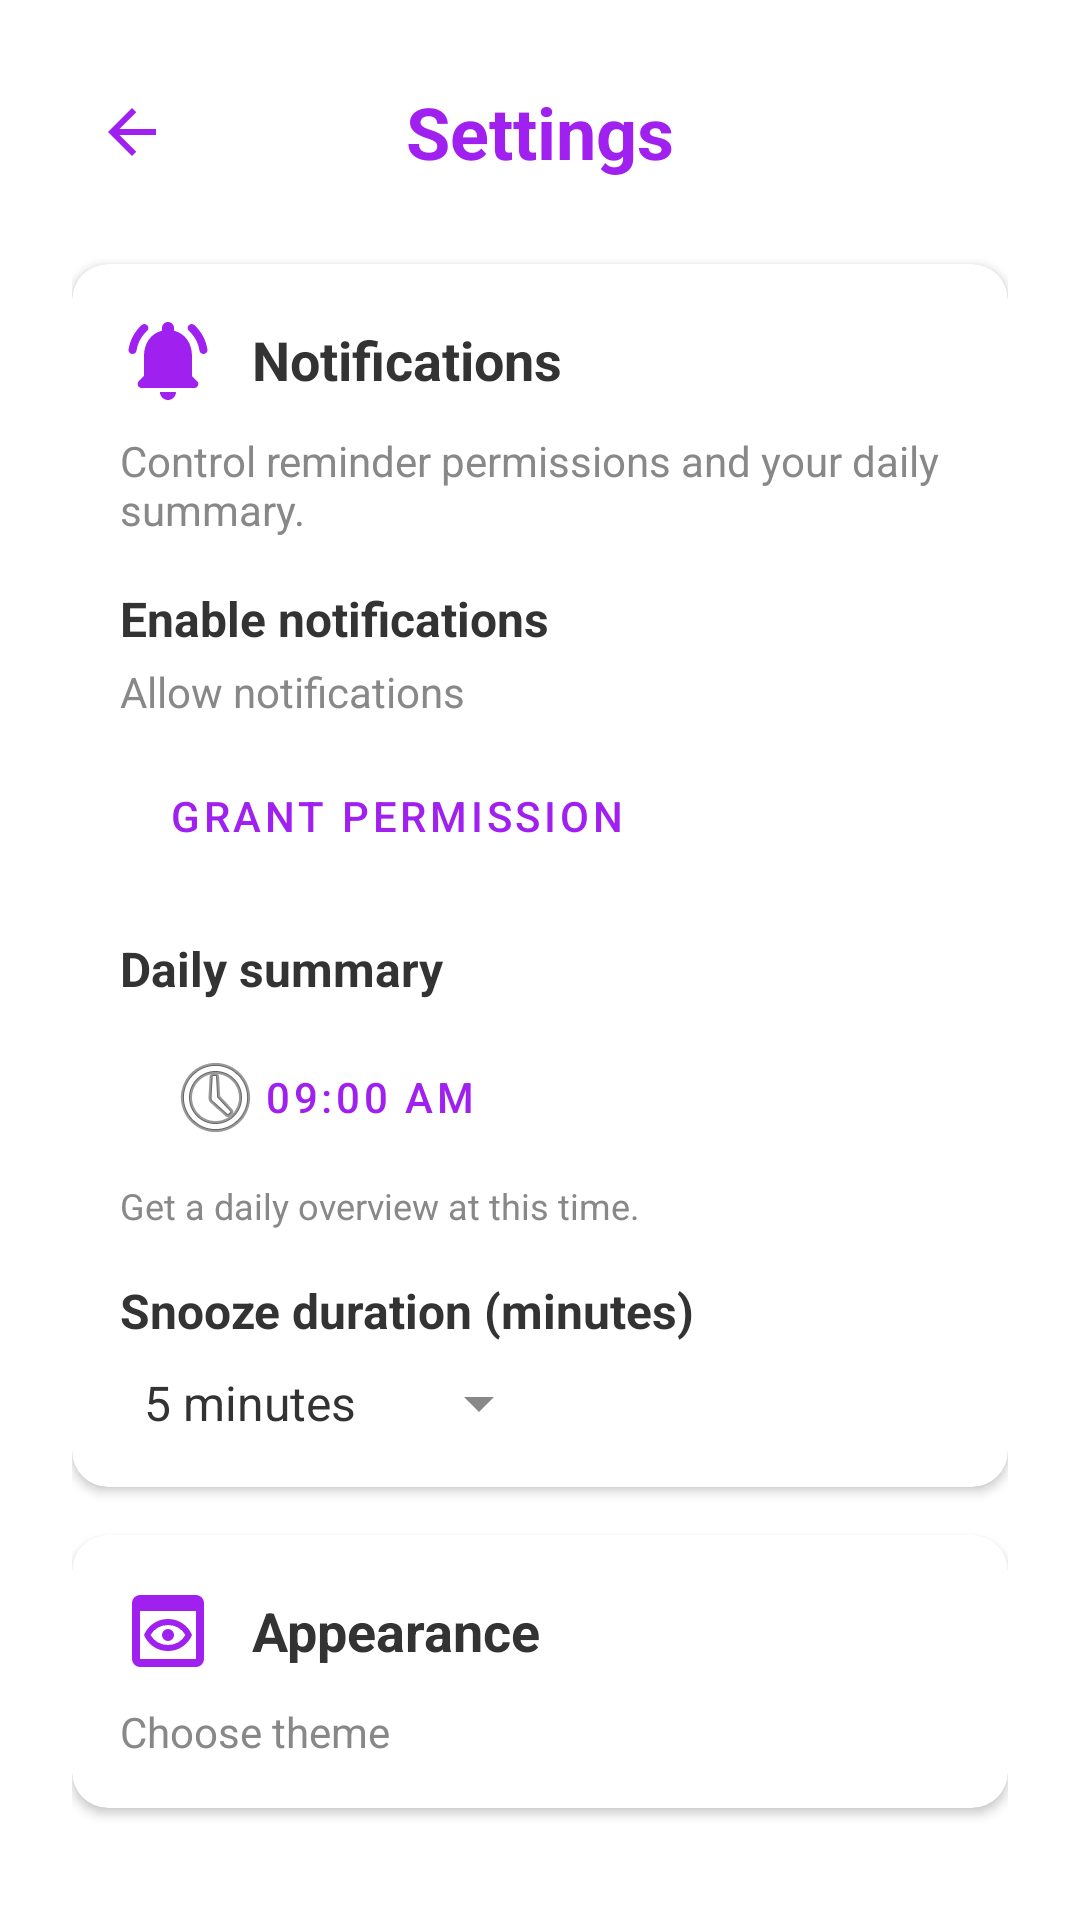

Named icons in this screenshot (1080×1920) and their bounding boxes, (x1, y1, x2, y2):
apperance: (132, 1595, 204, 1667)
back arrow: (108, 108, 156, 156)
